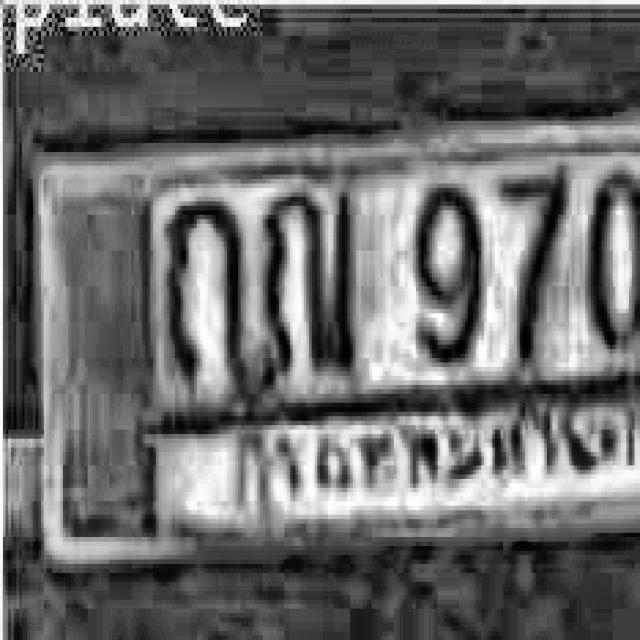license-plate: (23, 128, 640, 597)
